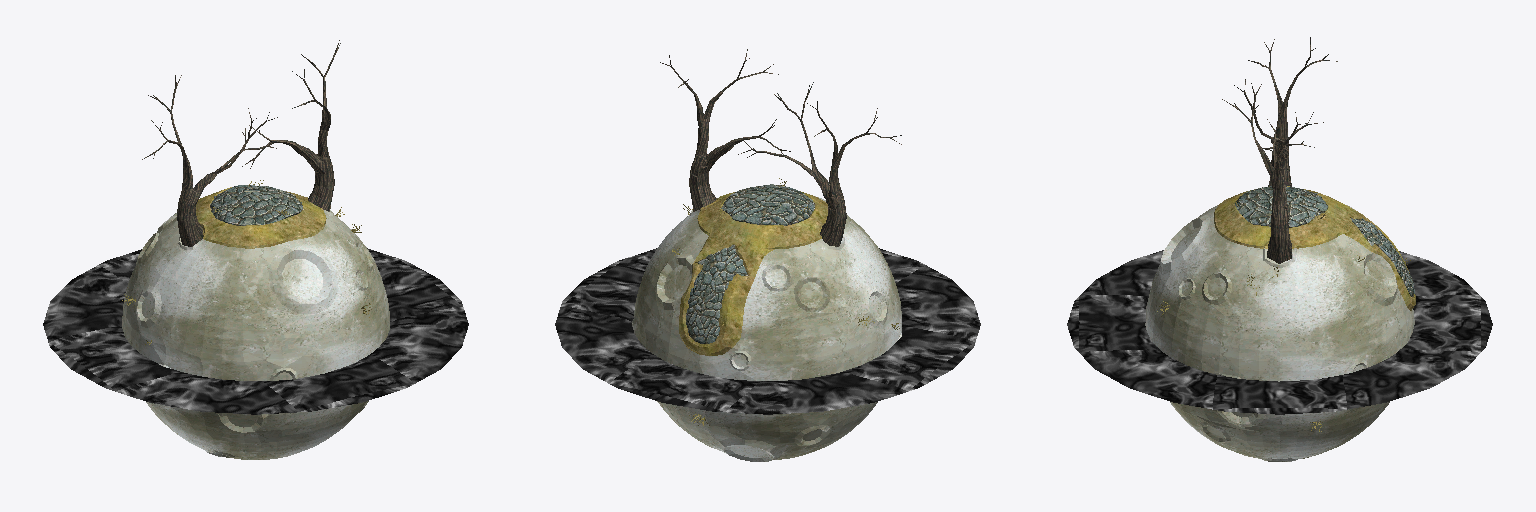
3 views of the same model, side by side, from view 1: azimuth 30°, elevation 25°; view 2: azimuth 150°, elevation 25°; view 3: azimuth 270°, elevation 25° (orthographic).
Parts seen in each view (by area): view 1: goal1, goal2, goal0, goal3, goal4; view 2: goal1, goal2, goal3, goal4, goal0; view 3: goal1, goal2, goal3, goal0, goal4.
Boxes of the visible parts, <box> form: goal1: <box>122,210,389,459</box>; goal2: <box>43,248,468,414</box>; goal0: <box>142,40,340,246</box>; goal3: <box>122,180,371,344</box>; goal4: <box>210,185,303,225</box>; goal1: <box>632,196,901,461</box>; goal2: <box>555,248,980,414</box>; goal3: <box>672,178,899,425</box>; goal4: <box>686,184,815,343</box>; goal0: <box>660,49,901,246</box>; goal1: <box>1145,205,1414,461</box>; goal2: <box>1067,250,1492,414</box>; goal3: <box>1157,186,1415,431</box>; goal0: <box>1222,37,1337,263</box>; goal4: <box>1235,186,1414,296</box>.
Bounding box in the file's own units: 5000 × 4989 × 5000.
5 materials, 5 textured.